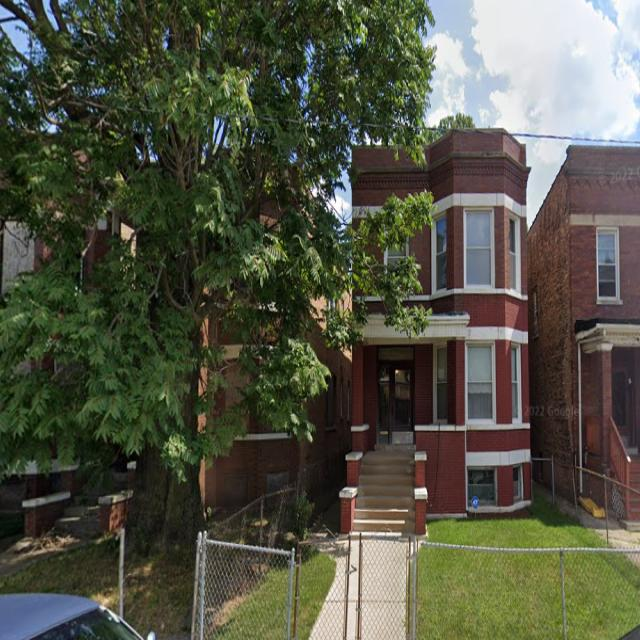House: (336, 127, 534, 544), (528, 145, 640, 532)
